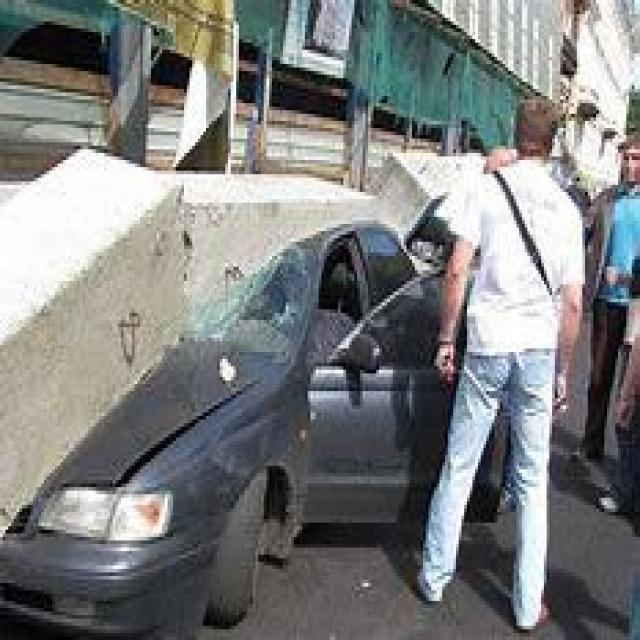Nguy hiểm: (1, 117, 463, 640)
